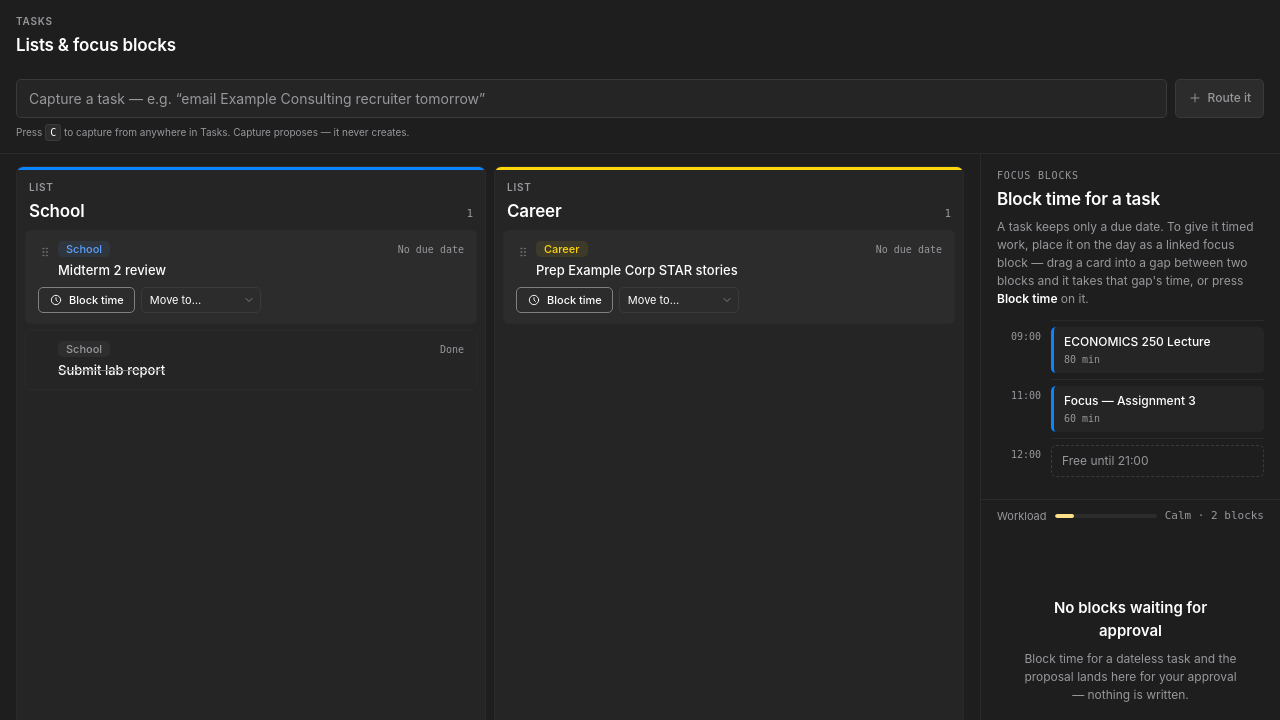
Test case: approvals say honestly that nothing reached Google Tasks › an approved move stays visible on the card, saying where and that it is local only
Select "Career" in the dropdown below "Midterm 2 review". click: coordinates (201, 300)
box: [141, 287, 261, 313]
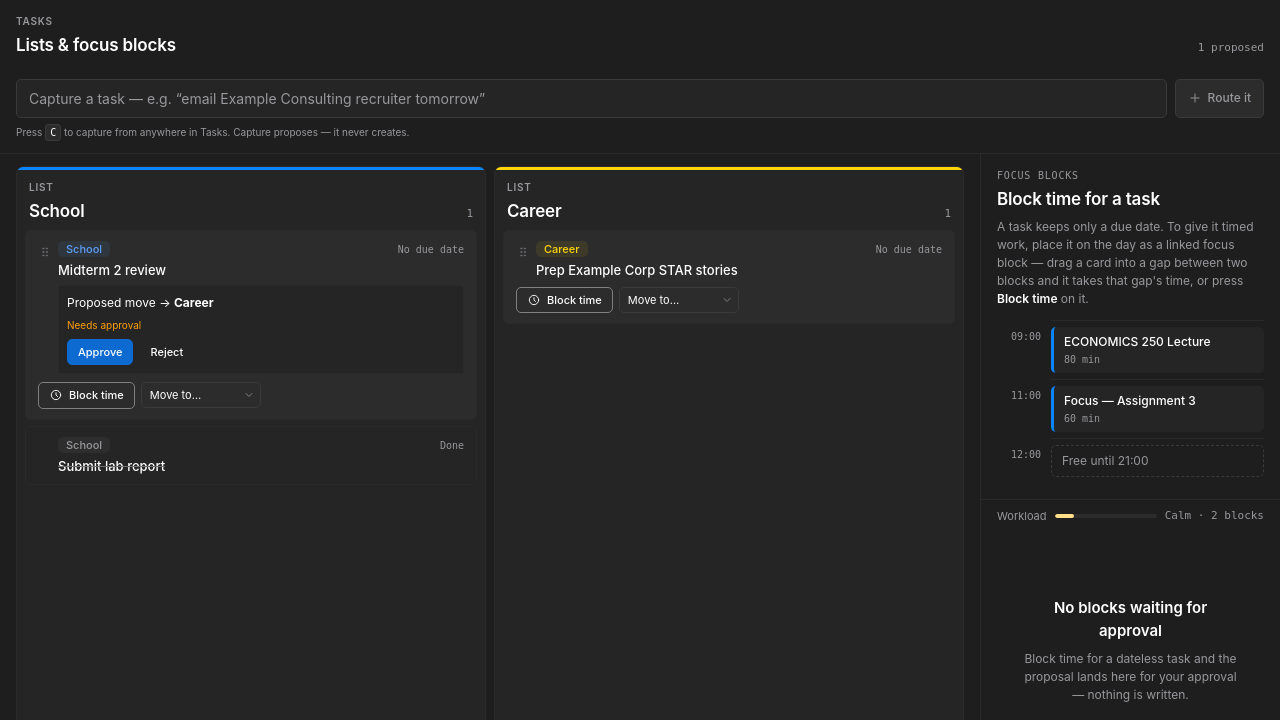
Click the button "Approve". click: coordinates (100, 352)
box: [67, 339, 134, 365]
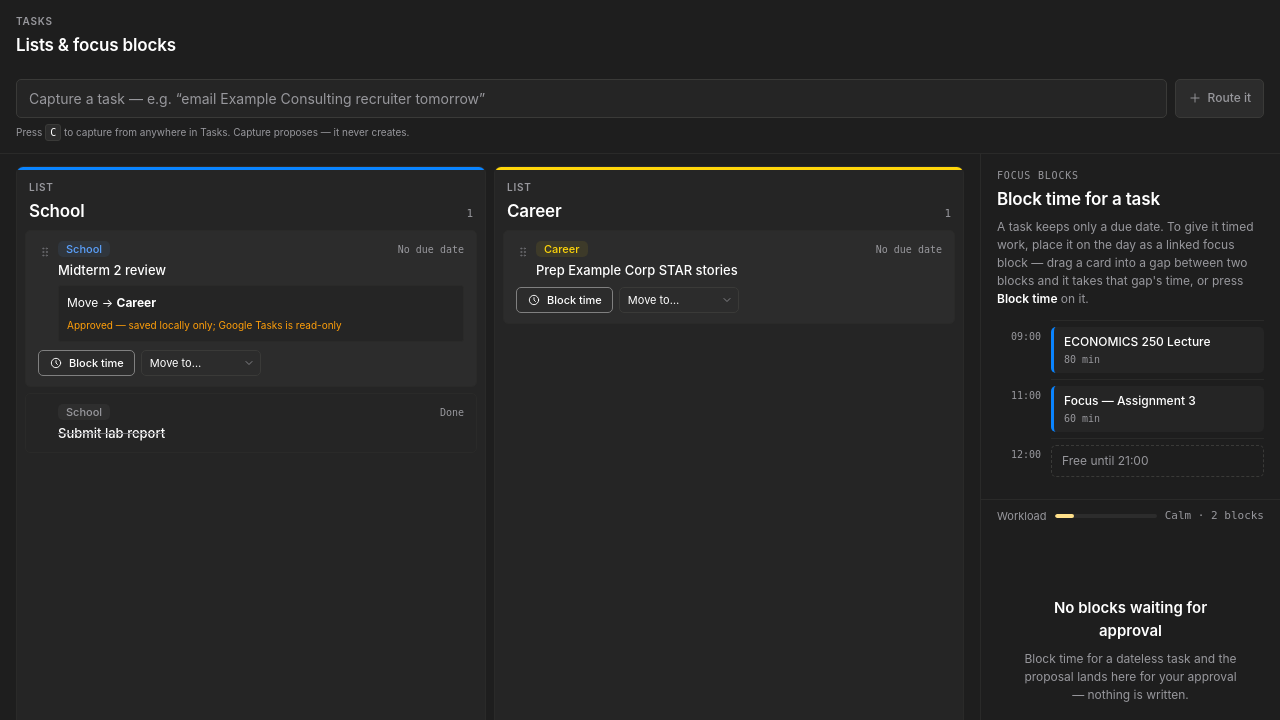
Expected: the element with class "task" shows "Career", [116, 295, 156, 310]
Expected: the element with class "task" shows "Approved — saved locally only; Google Tasks is read-only", [67, 319, 342, 331]
